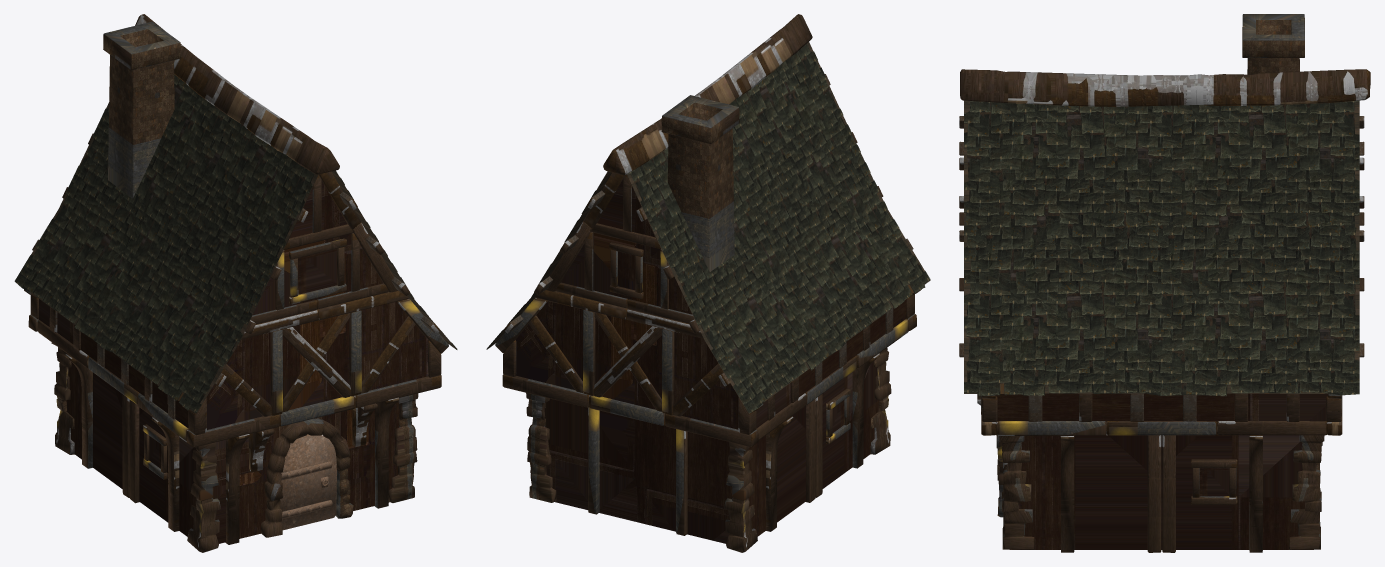
The model's file is house 7.fbx.
3 views of the same model, side by side, from view 1: azimuth 30°, elevation 25°; view 2: azimuth 150°, elevation 25°; view 3: azimuth 270°, elevation 25° (orthographic). The views are drawn at different scales.
Parts seen in each view (by area): view 1: roof tiles_roof_0, stone walls1_lp_wall & roof & windows_0, chimney_lp_stone_0, long rooftop_lp.001_wood columns_0, column2_lp_stone_0, doors_lp_door_0, doorframe_lp_stone_0, column1_lp.002_wood columns_0, chimney2_lp_stone_0, column1_lp.004_wood columns_0, column1_lp.001_stone_0, wood log1_lp.017_wood columns_0 (+24 smaller); view 2: roof tiles_roof_0, stone walls1_lp_wall & roof & windows_0, chimney_lp_stone_0, long rooftop_lp.001_wood columns_0, column2_lp_stone_0, chimney2_lp_stone_0, column1_lp.004_wood columns_0, wood log1_lp.018_wood columns_0, column1_lp.001_stone_0, roof wood_roof_0, wood log1_lp.017_wood columns_0, wood log1_lp.001_wood columns_0 (+22 smaller); view 3: roof tiles_roof_0, stone walls1_lp_wall & roof & windows_0, long rooftop_lp.001_wood columns_0, column1_lp.001_stone_0, wood log1_lp.017_wood columns_0, column1_lp.004_wood columns_0, chimney2_lp_stone_0, roof wood_roof_0, wood log1_lp.009_wood columns_0, wood log1_lp.010_wood columns_0, wood log1_lp.011_wood columns_0, window1.004_wall & roof & windows_0 (+3 smaller).
Boxes of the visible parts, x1,y1,x2,y2 form: roof tiles_roof_0: [14, 74, 457, 412]; stone walls1_lp_wall & roof & windows_0: [39, 181, 428, 543]; chimney_lp_stone_0: [108, 55, 174, 198]; long rooftop_lp.001_wood columns_0: [135, 14, 339, 174]; column2_lp_stone_0: [51, 342, 220, 552]; doors_lp_door_0: [279, 434, 336, 530]; doorframe_lp_stone_0: [260, 418, 353, 537]; column1_lp.002_wood columns_0: [225, 397, 398, 544]; chimney2_lp_stone_0: [103, 21, 180, 70]; column1_lp.004_wood columns_0: [65, 354, 179, 531]; column1_lp.001_stone_0: [388, 393, 418, 502]; wood log1_lp.017_wood columns_0: [122, 394, 139, 503]; roof tiles_roof_0: [486, 44, 930, 413]; stone walls1_lp_wall & roof & windows_0: [516, 180, 906, 543]; chimney_lp_stone_0: [667, 128, 734, 271]; long rooftop_lp.001_wood columns_0: [603, 14, 812, 175]; column2_lp_stone_0: [724, 348, 891, 552]; chimney2_lp_stone_0: [661, 95, 739, 143]; column1_lp.004_wood columns_0: [766, 353, 879, 531]; wood log1_lp.018_wood columns_0: [588, 407, 687, 535]; column1_lp.001_stone_0: [526, 393, 556, 502]; roof wood_roof_0: [487, 42, 930, 412]; wood log1_lp.017_wood columns_0: [806, 394, 822, 502]; wood log1_lp.001_wood columns_0: [665, 314, 916, 446]; roof tiles_roof_0: [964, 100, 1359, 396]; stone walls1_lp_wall & roof & windows_0: [995, 393, 1327, 549]; long rooftop_lp.001_wood columns_0: [960, 69, 1370, 106]; column1_lp.001_stone_0: [999, 435, 1324, 549]; wood log1_lp.017_wood columns_0: [1147, 435, 1175, 552]; column1_lp.004_wood columns_0: [1060, 435, 1262, 552]; chimney2_lp_stone_0: [1242, 14, 1304, 57]; roof wood_roof_0: [964, 100, 1359, 393]; wood log1_lp.009_wood columns_0: [995, 421, 1106, 435]; wood log1_lp.010_wood columns_0: [1106, 421, 1216, 435]; wood log1_lp.011_wood columns_0: [1216, 421, 1327, 435]; window1.004_wall & roof & windows_0: [1199, 468, 1229, 496].
Bounding box in the file's own units: 551 × 812 × 678.
